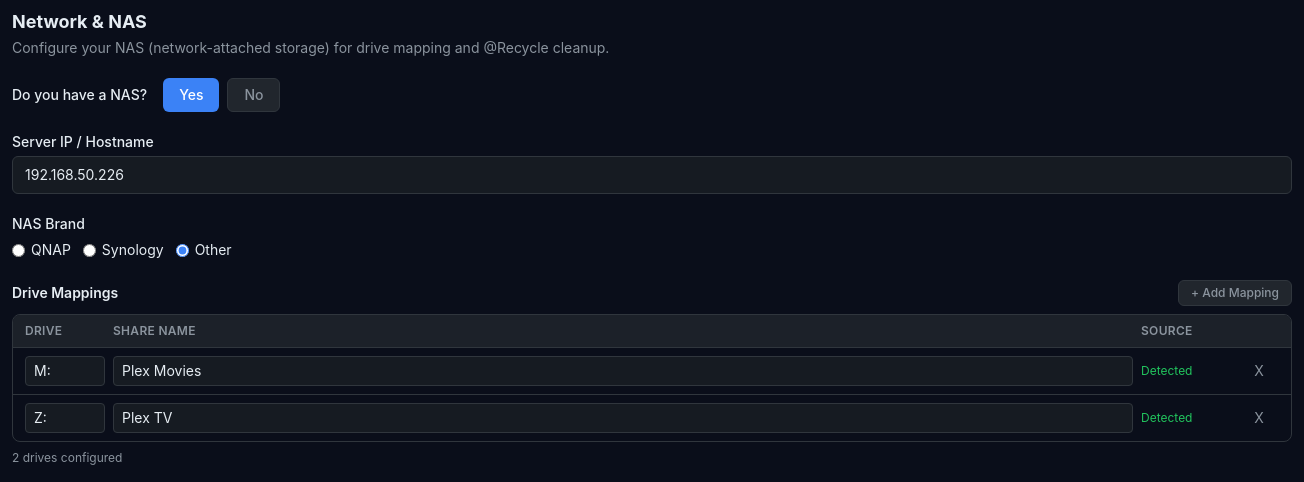
Scenario: <W3NetworkNas> › removing a mapping updates the count
Expected: the text "2 drives configured" is shown, [12,450,122,465]
Remove first mapping
Click the button named "Remove mapping row" at (1259, 371), box [1239,361,1279,381]
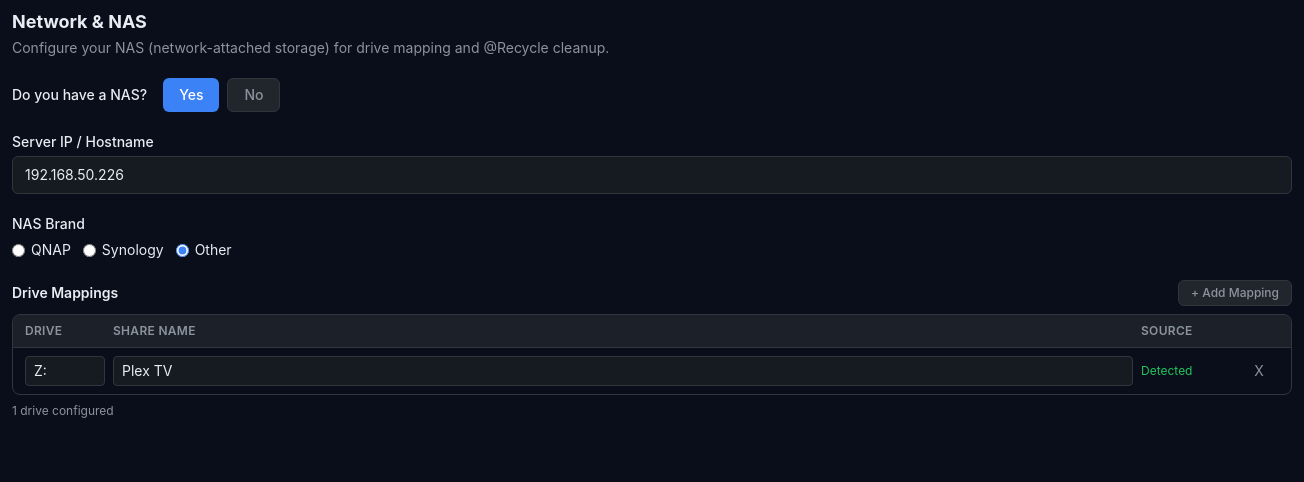
Result: the text "1 drive configured" is shown at [12,403,114,418]
